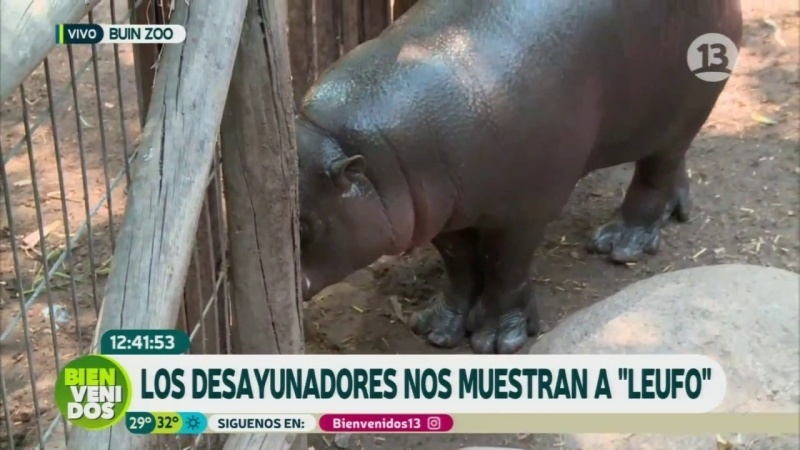hipopotamo: (281, 2, 758, 355)
